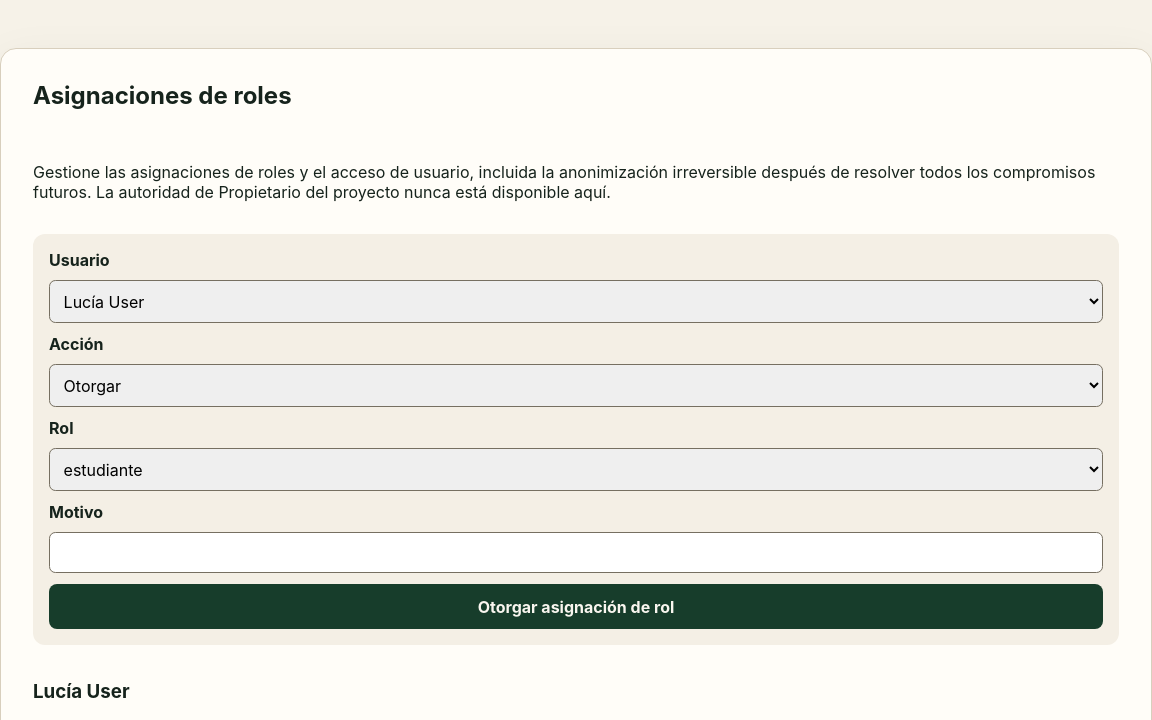
Test: Role Assignment administration › localizes typed server errors instead of displaying server-authored English
expect the heading "Asignaciones de roles" is shown: met, box [33,81,292,110]
Select "Eliminar" in the dropdown labelled "Acción" at (576, 386), box [49,364,1103,408]
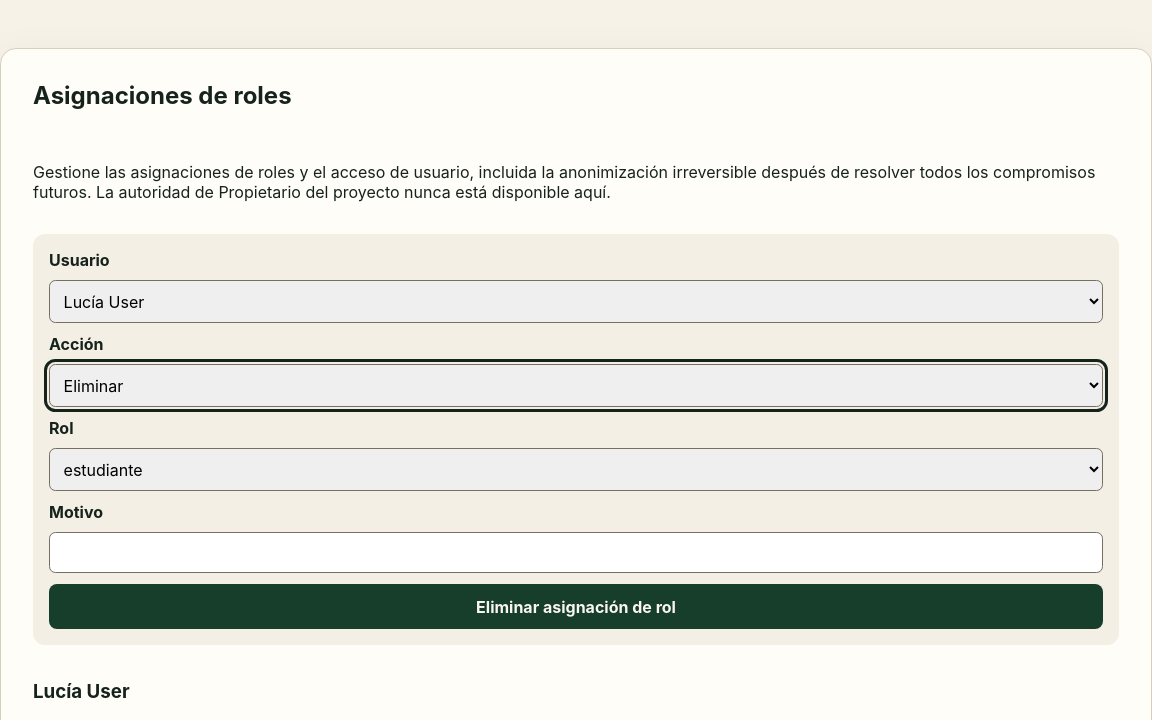
Type "Cambio administrativo" into the field labelled "Motivo".
click(576, 553); type("Cambio administrativo")  # box [49,532,1103,573]
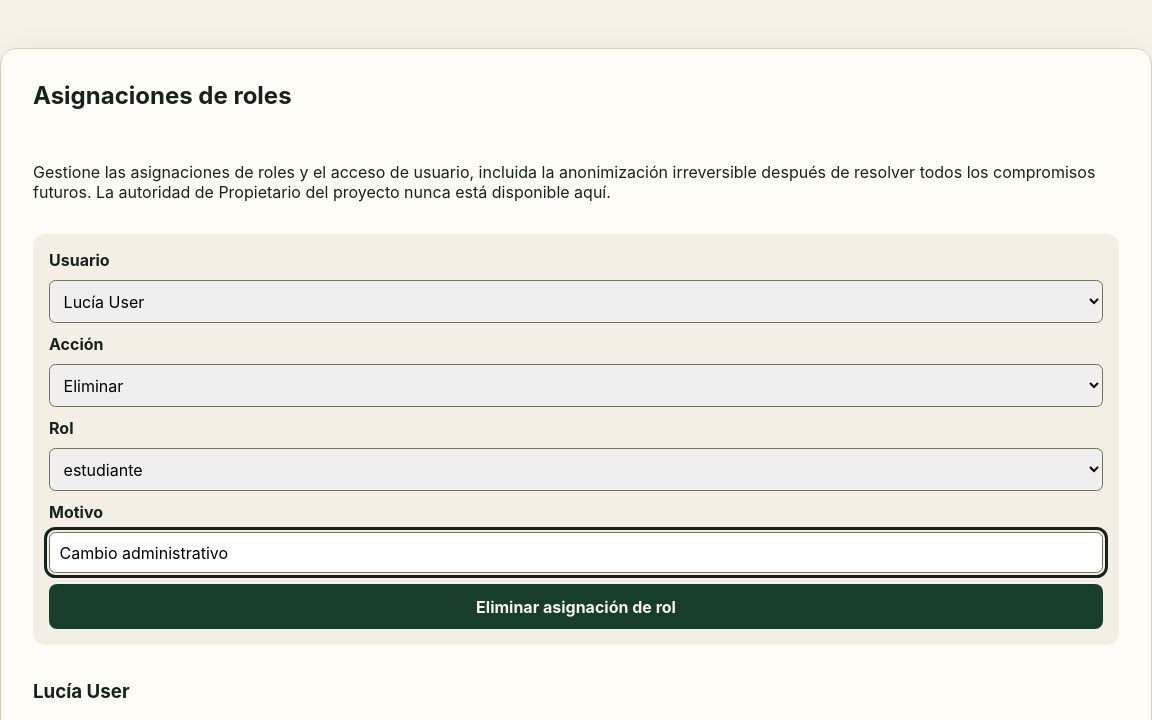
Click the button "Eliminar asignación de rol".
click(576, 607)  # box [49,584,1103,629]
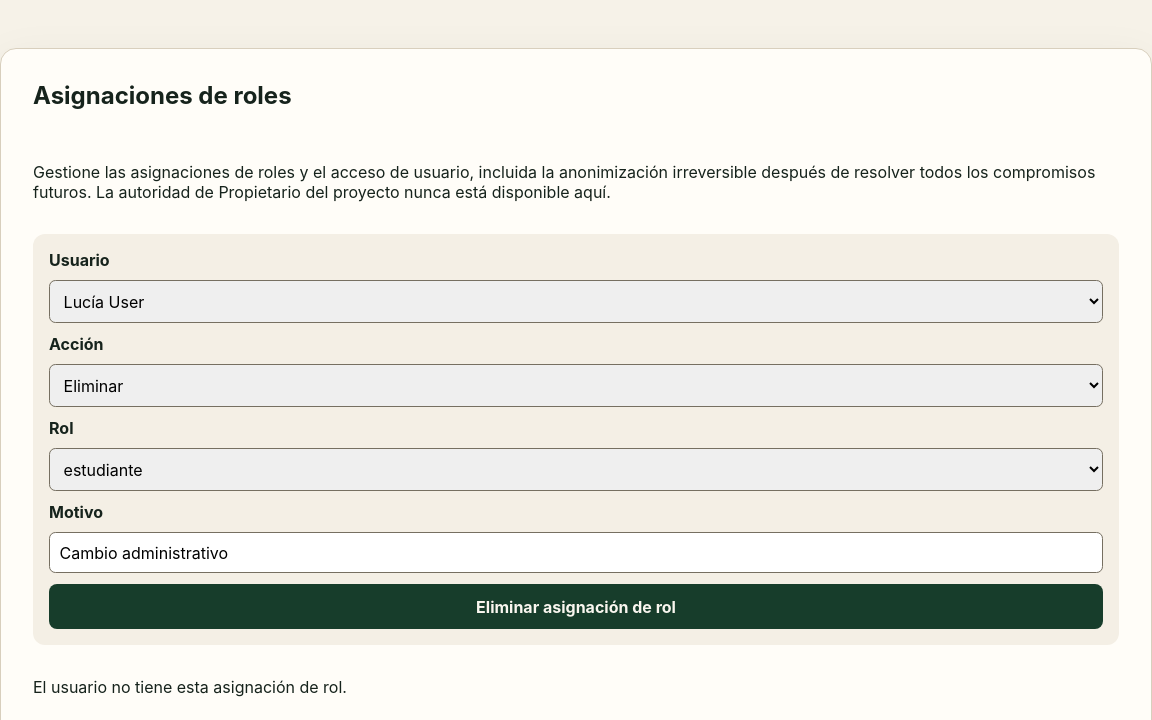
expect the message reads "El usuario no tiene esta asignación de rol.": met, box [33,677,347,697]
